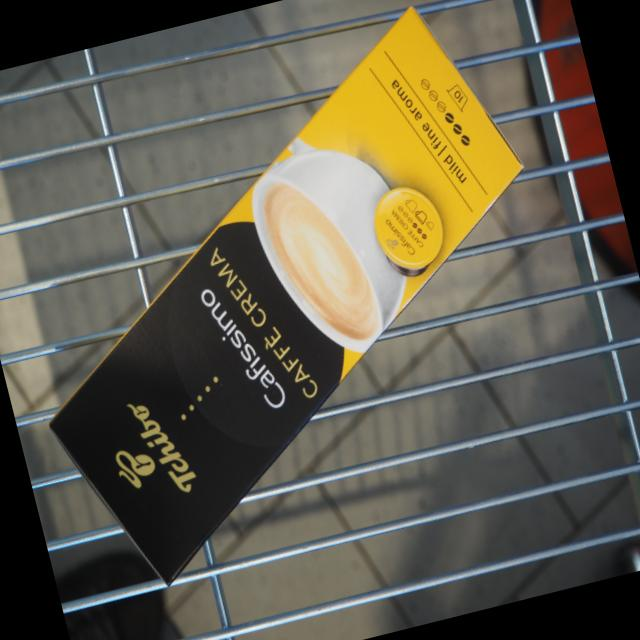Simo CCMild bigpack: (44, 0, 531, 594)
